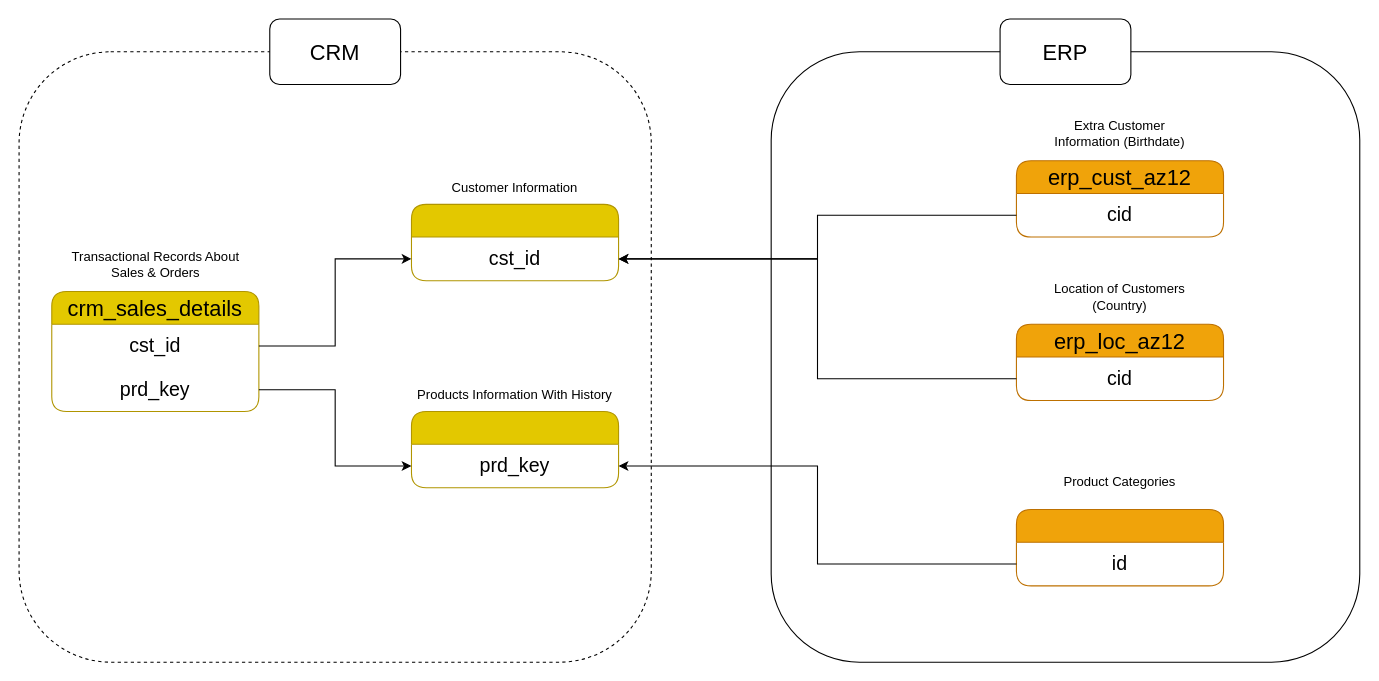
The diagram is 1379 pixels wide and 681 high, and some of its shapes have lost their labels. Here are the shapes that lost their labels. From the top down, the box of each, then its label:
(410, 203, 619, 281): crm_cust_info
(410, 410, 619, 488): crm_prd_info
(1015, 508, 1224, 586): erp_px_cat_g1v2
